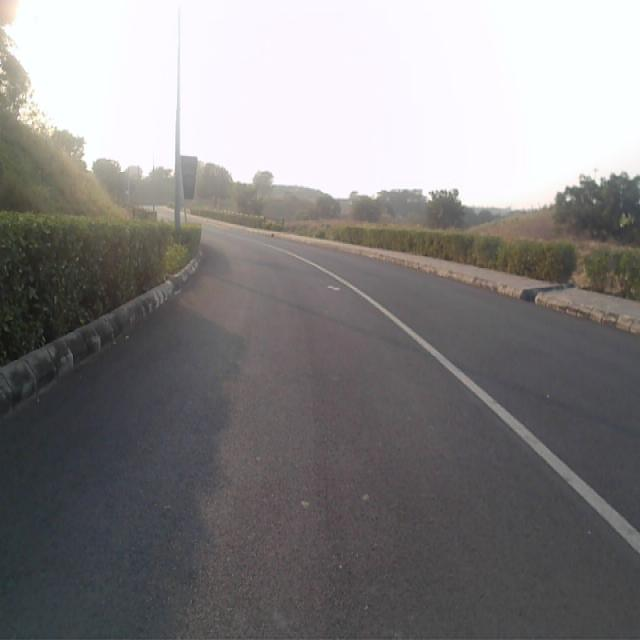lane: (0, 232, 640, 640)
